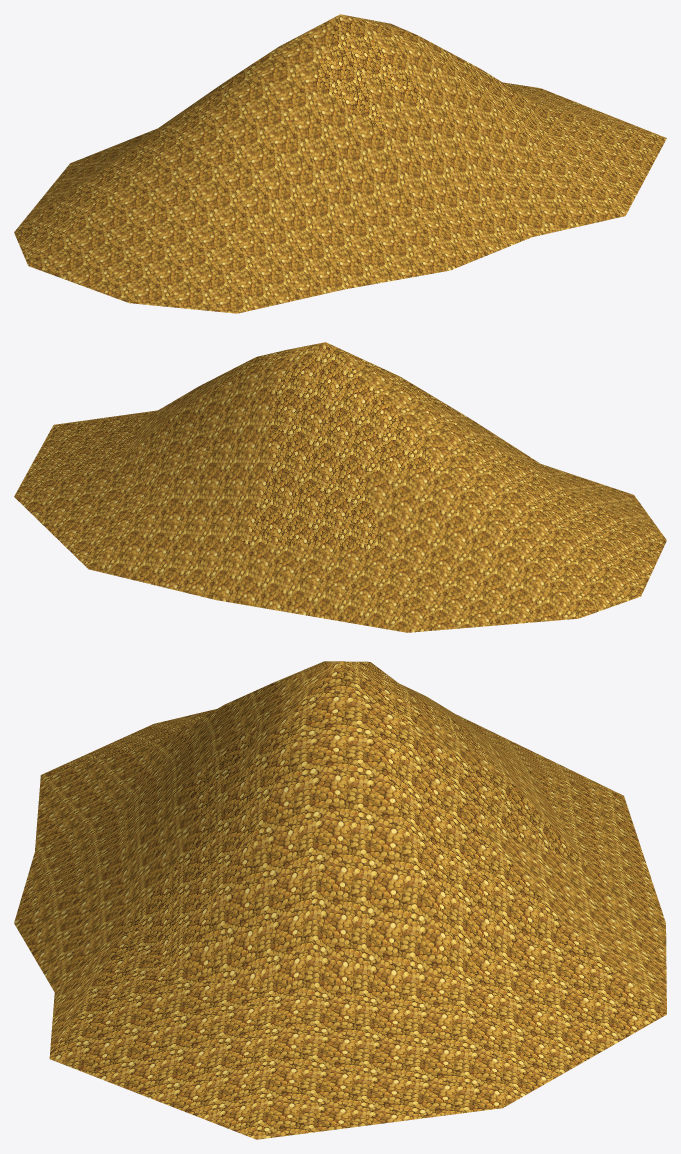
The model's file is Treasure_Gold_01.FBX.
The picture shows the model from 3 angles, top to bottom: view 1: azimuth 30°, elevation 25°; view 2: azimuth 150°, elevation 25°; view 3: azimuth 270°, elevation 25°; orthographic projection. The views are drawn at different scales.
Parts seen in each view (by area): view 1: Treasure_Gold_01; view 2: Treasure_Gold_01; view 3: Treasure_Gold_01.
Boxes of the visible parts, x1,y1,x2,y2 form: Treasure_Gold_01: (14,14,666,313); Treasure_Gold_01: (14,342,666,632); Treasure_Gold_01: (14,661,666,1139).
Size of the model in its own units: 23.8 by 6.54 by 14.82.
